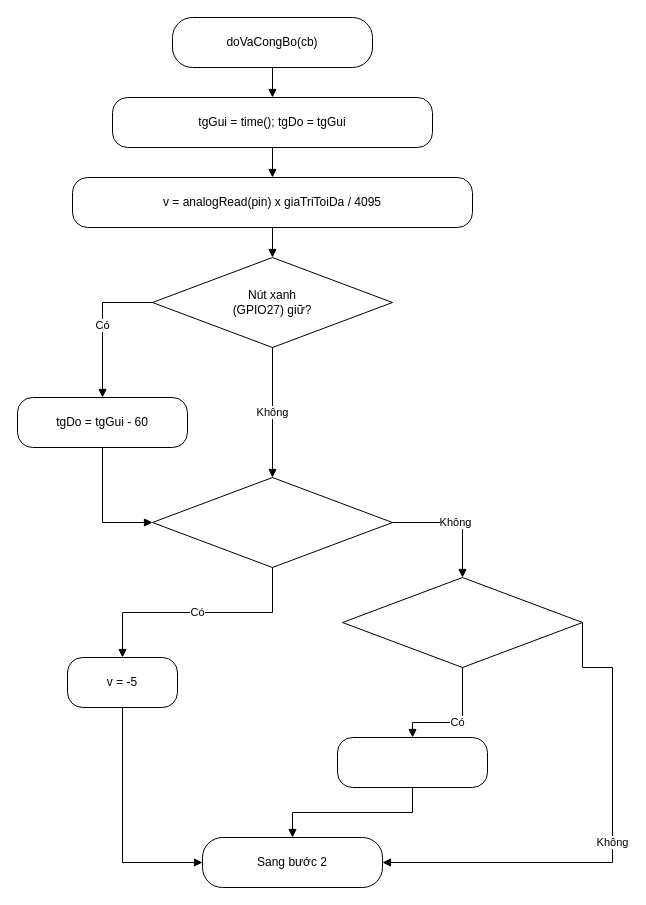
The diagram is 646 pixels wide and 905 high, and some of its shapes have lost their labels. The centre of each missing label's shape, as x and y in pixels:
Nút vàng (GPIO25) giữ?: pixel 462 622
Nút đỏ (GPIO26) giữ?: pixel 272 522
v = v + 200: pixel 412 762
